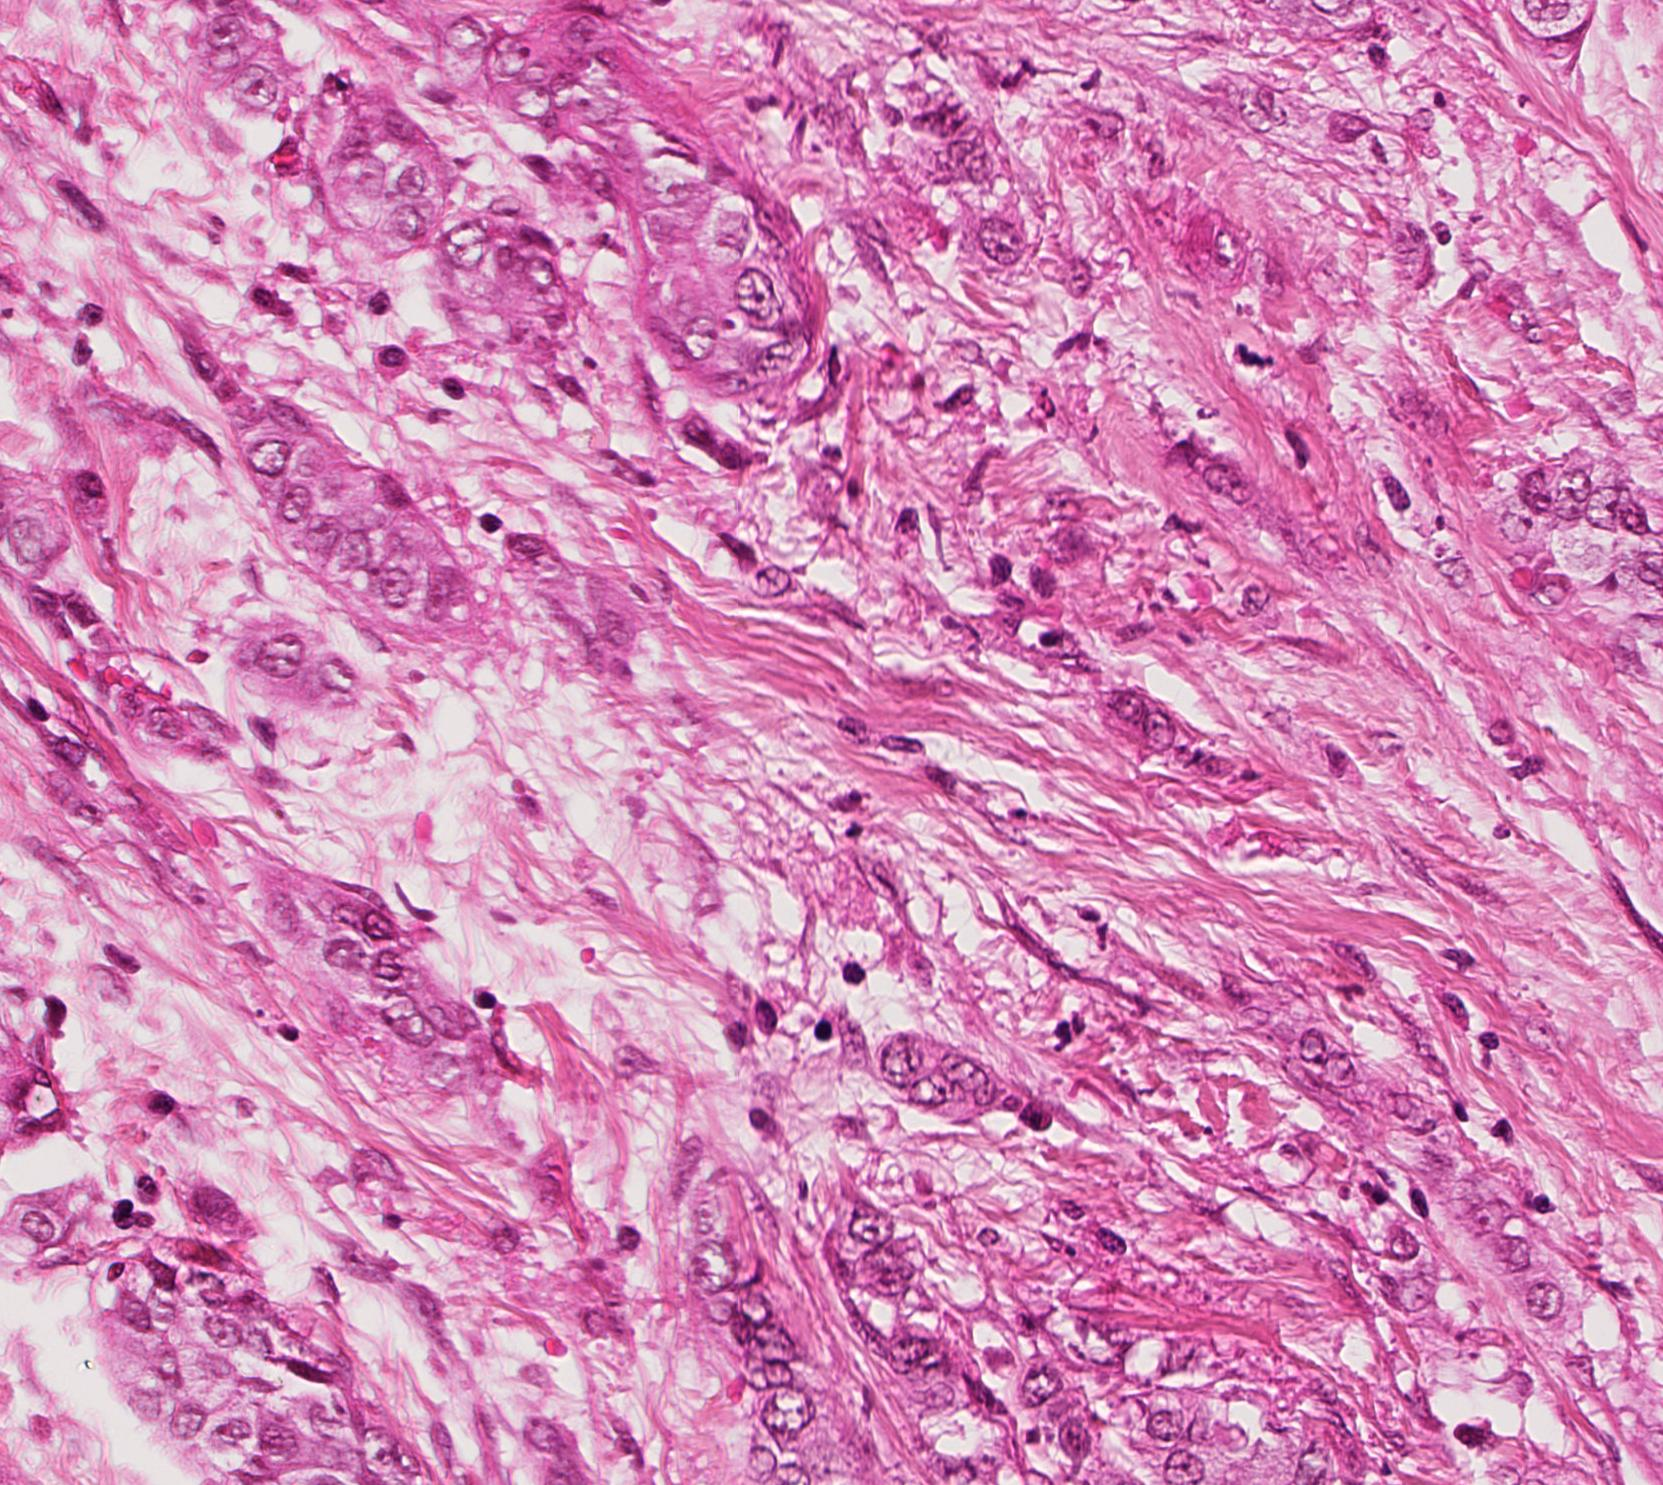mitosis: (1224, 341, 1285, 401)
